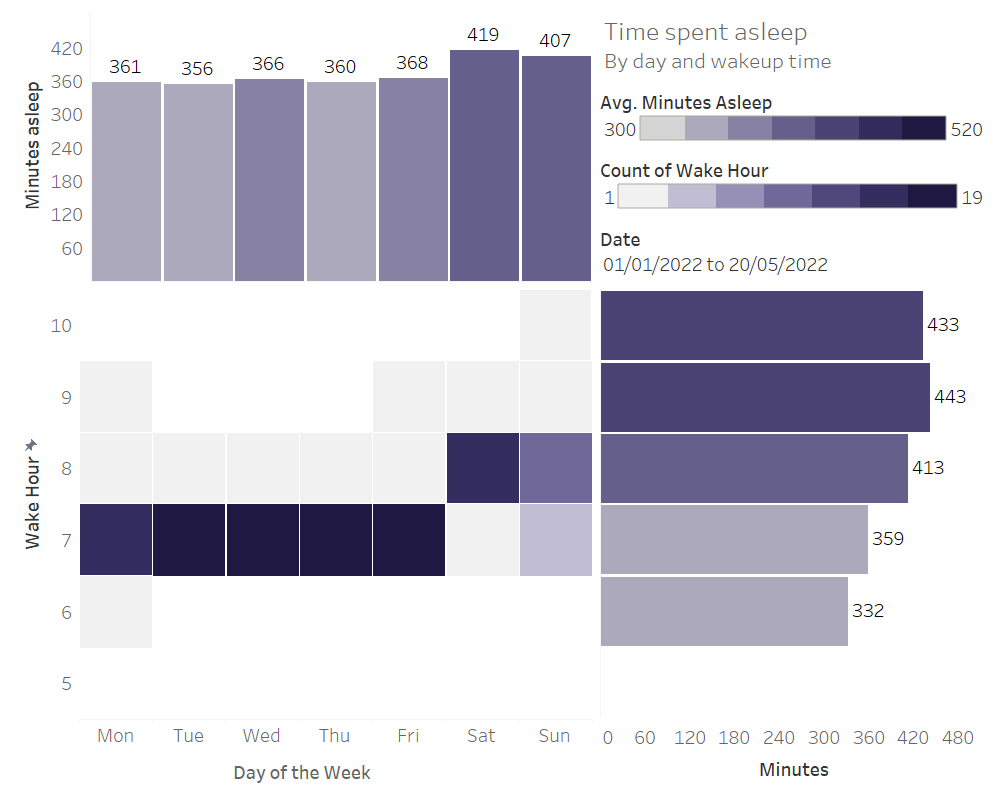

The dashboard page shown, as its layout file describes it:
{"tool":"tableau","page":{"name":"Waketime Dashboard","canvas":[1000,800],"ordinal":0},"visuals":[{"type":"worksheet","title":"Asleep by Day","mark":"Bar","rows":["minutesAsleep"],"cols":["dayOfWeek"],"box":[8,8,588,277]},{"type":"text","box":[596,8,396.1,73]},{"type":"legend","title":"Asleep by wake hour","param":"[federated.1r5qa1g0v1m78x16bkwcn1l16mqm].[avg:minutesAsleep:qk]","box":[596,81,396.1,68]},{"type":"legend","title":"Wake up time heatmap","param":"[federated.1r5qa1g0v1m78x16bkwcn1l16mqm].[cnt:wake_hour:qk]","box":[596,149,396.1,72]},{"type":"filter","title":"Wake up time heatmap","param":"[federated.1r5qa1g0v1m78x16bkwcn1l16mqm].[none:date:qk]","box":[596,221,396.1,64]},{"type":"worksheet","title":"Wake up time heatmap","mark":"Square","rows":["wake_hour"],"cols":["dayOfWeek"],"box":[8,285,588,467]},{"type":"worksheet","title":"Asleep by wake hour","mark":"Bar","rows":["wake_hour"],"cols":["minutesAsleep"],"box":[596,285,396.1,507]},{"type":"text","box":[8,752,588,40]}]}

Visuals, with their boxes in screenshot pixels (x1, y1, x2, y2), scaled from the page's 1000x800 canvas onto the 1000x800 screenshot:
"Asleep by Day" worksheet (Bar marks): left=8, top=8, right=596, bottom=285
text: left=596, top=8, right=992, bottom=81
"Asleep by wake hour" legend: left=596, top=81, right=992, bottom=149
"Wake up time heatmap" legend: left=596, top=149, right=992, bottom=221
"Wake up time heatmap" filter: left=596, top=221, right=992, bottom=285
"Wake up time heatmap" worksheet (Square marks): left=8, top=285, right=596, bottom=752
"Asleep by wake hour" worksheet (Bar marks): left=596, top=285, right=992, bottom=792
text: left=8, top=752, right=596, bottom=792
